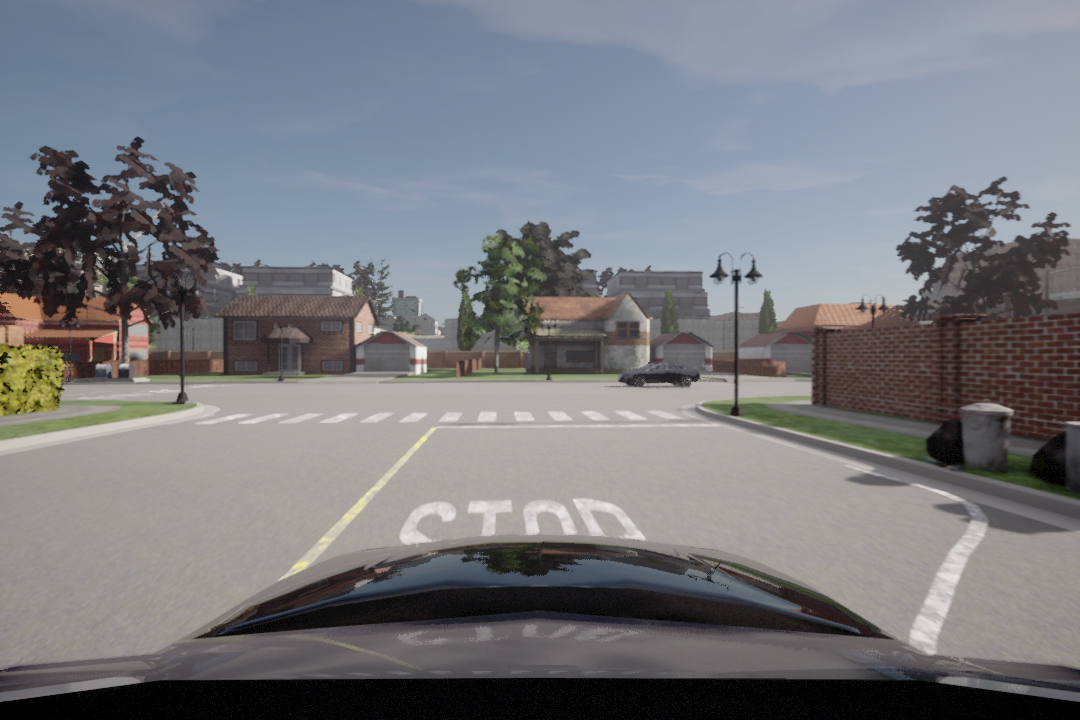walkside: (205, 408, 696, 427)
